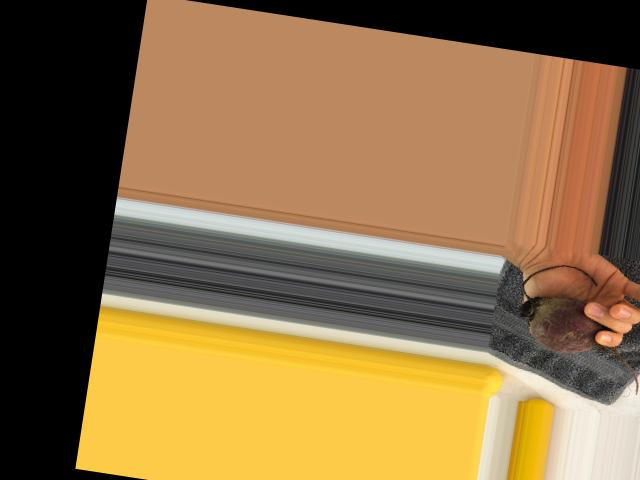beet: (510, 259, 640, 394)
